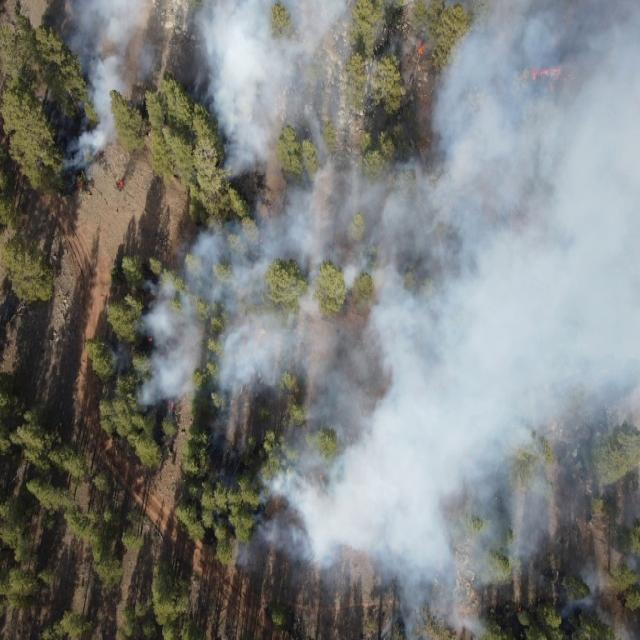fire: (529, 60, 572, 89), (414, 37, 426, 58), (76, 178, 88, 192), (514, 605, 526, 616), (116, 179, 127, 190), (166, 401, 177, 412), (146, 334, 154, 345)
smoke: (187, 0, 640, 442), (218, 442, 640, 640), (46, 0, 176, 201), (106, 240, 186, 418)
